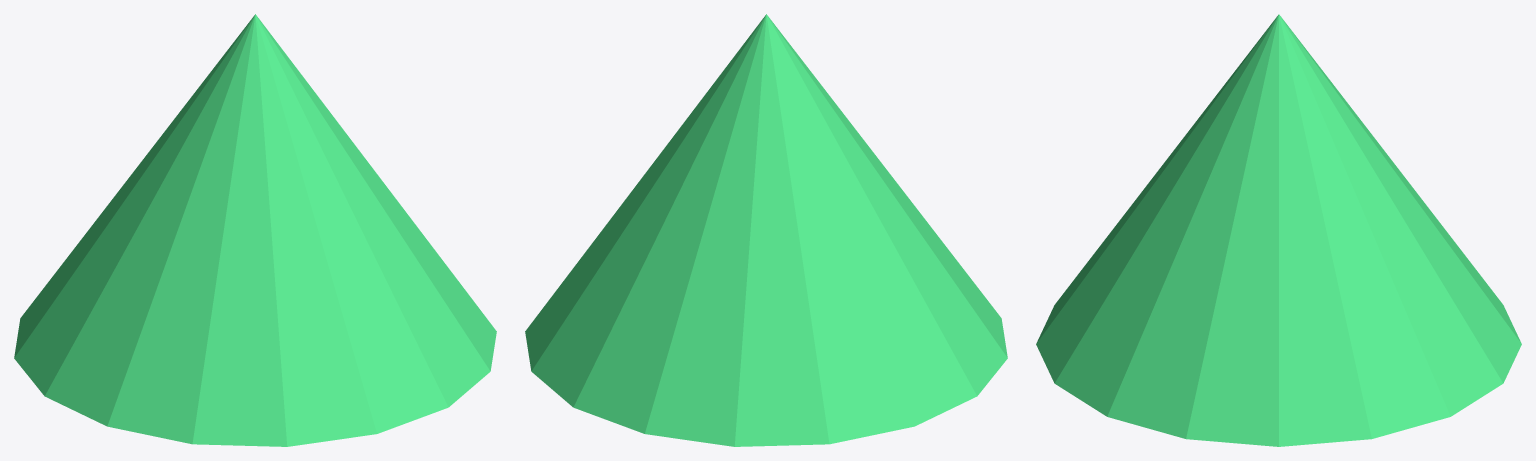
3 renders of one model, left to right at view 1: azimuth 30°, elevation 25°; view 2: azimuth 150°, elevation 25°; view 3: azimuth 270°, elevation 25°, orthographic.
Visible parts, largest first — view 1: TestCone; view 2: TestCone; view 3: TestCone.
Boxes of the visible parts, x1,y1,x2,y2 form: TestCone: (14,14,496,446); TestCone: (525,14,1007,446); TestCone: (1036,14,1521,446).
Size of the model in its own units: 200 by 150 by 200.
